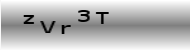3: (75, 9, 91, 23)
T: (94, 11, 110, 24)
V: (39, 20, 55, 33)
r: (59, 23, 71, 34)
z: (21, 13, 35, 25)
